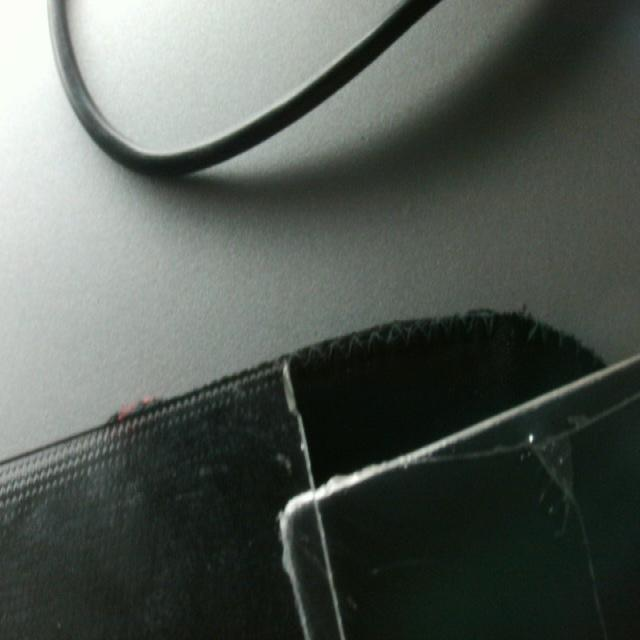edge_chip: (266, 350, 320, 463)
